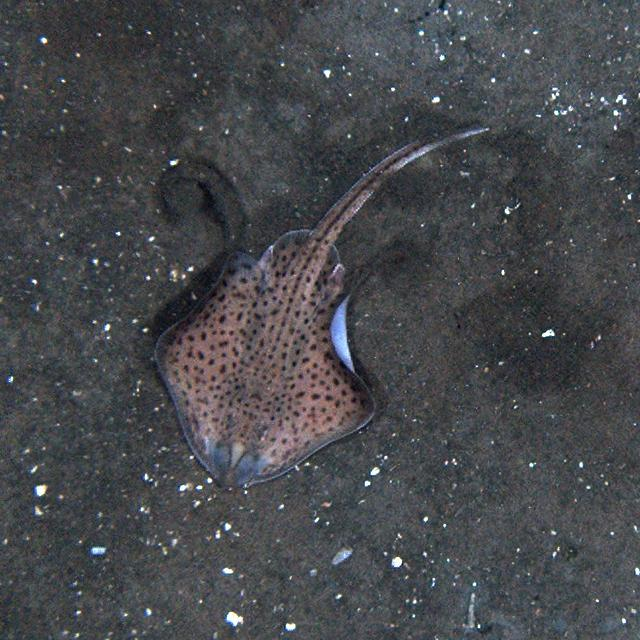skate: (156, 125, 488, 492)
